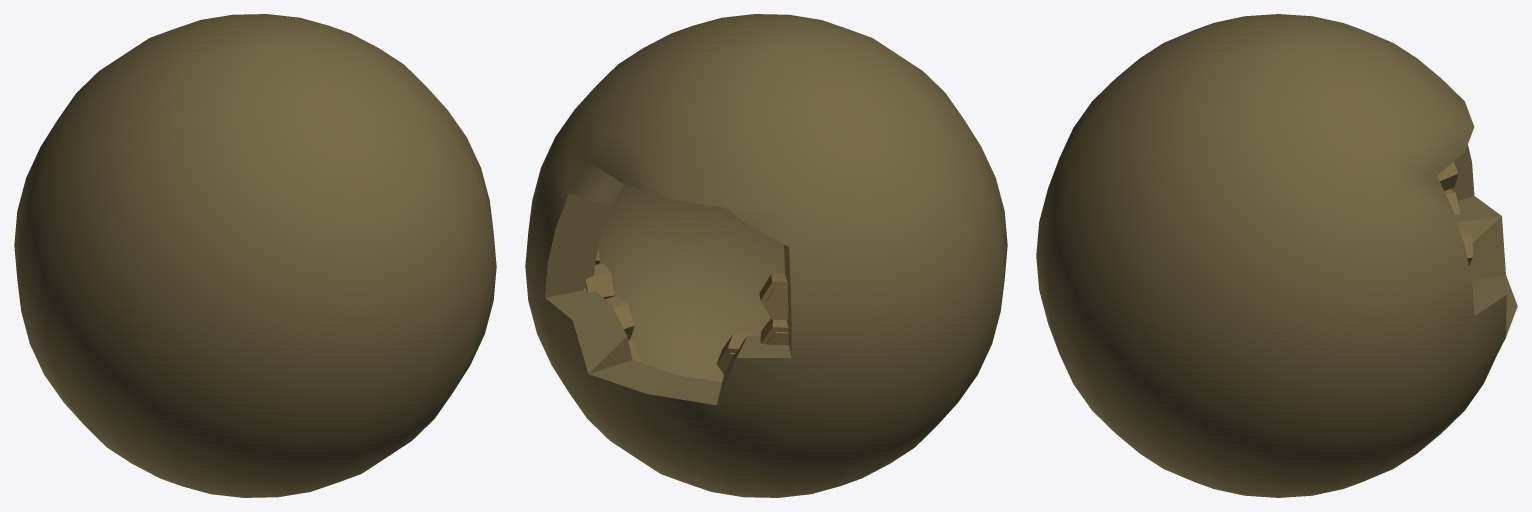
Rendered from Walls_Broke.fbx.
The picture shows the model from 3 angles, left to right: view 1: azimuth 30°, elevation 25°; view 2: azimuth 150°, elevation 25°; view 3: azimuth 270°, elevation 25°; orthographic projection.
Parts seen in each view (by area): view 1: Walls_Broke; view 2: Walls_Broke; view 3: Walls_Broke.
Boxes of the visible parts, x1,y1,x2,y2 form: Walls_Broke: [14, 14, 496, 497]; Walls_Broke: [525, 14, 1007, 497]; Walls_Broke: [1036, 14, 1517, 497].
Size of the model in its own units: 101 by 101 by 101.
